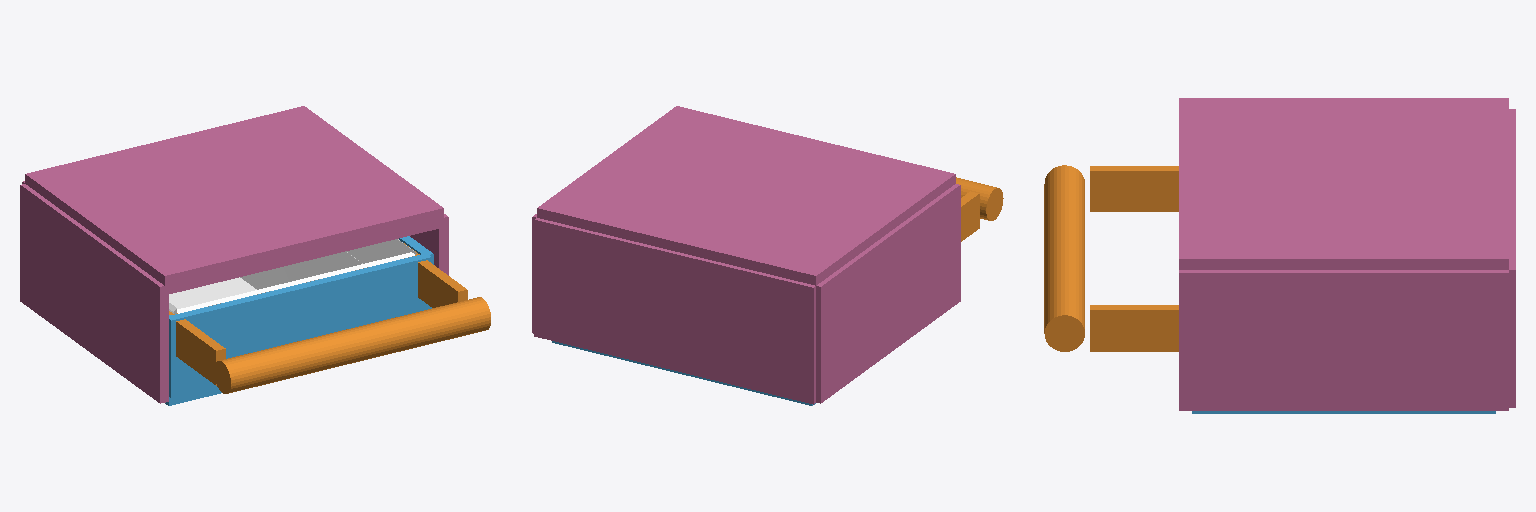
The robot description file, URDF, robot "bowl.urdf":
<?xml version="0.0" ?>
<robot name="bowl.urdf">

  <material name="yellow">
    <color rgba="1 1 0.4 1"/>
  </material>
  <material name="red">
    <color rgba="1 0 0 1"/>
  </material>
  <material name="blue">
    <color rgba=".17 .20 .38 1"/>
  </material>
  <material name="teal">
    <color rgba="0 .5 .5 1"/>
  </material>
  <material name="orange">
    <color rgba=".93 .6 .23 1"/>
  </material>

  <link name="world"/>

  <link name="base">
    <contact>
      <rolling_friction value="10.0"/>
      <lateral_friction value="10.0"/>
      <spinning_friction value="10.0"/>
    </contact>
    <inertial>
      <origin rpy="0 0 0" xyz="0.0 0.0 0.0"/>
       <mass value="0.1"/>
       <inertia ixx="1" ixy="0" ixz="0" iyy="1" iyz="0" izz="1"/>
    </inertial>
    <visual>
      <origin rpy="0 0 0" xyz="0 0 -0.2"/>
      <geometry>
        <box size="1.4 1.2 .1"/>
      </geometry>
    </visual>
    <visual>
      <!-- right -->
      <origin rpy="0 0 0" xyz="0 -.6 0"/>
      <geometry>
        <box size="1.4 .05 0.4"/>
      </geometry>
    </visual>
    <visual>
      <!-- left -->
      <origin rpy="0 0 0" xyz="0 .6 0"/>
      <geometry>
        <box size="1.4 .05 0.4"/>
      </geometry>
    </visual>
    <visual>
      <!-- front -->
      <origin rpy="0 0 0" xyz=".7 0 0"/>
      <geometry>
        <box size=".05 1.2 0.4"/>
      </geometry>
    </visual>
    <visual>
      <!-- back -->
      <origin rpy="0 0 0" xyz="-.7 0 0"/>
      <geometry>
        <box size=".05 1.2 0.4"/>
      </geometry>
    </visual>

    <collision>
      <!--Bottom --> 
      <origin rpy="0 0 0" xyz="0 0 -.2"/>
      <geometry>
        <box size="1.4 1.2 .1"/>
      </geometry>
    </collision>
    <collision>
      <!-- right -->
      <origin rpy="0 0 0" xyz="0 -.6 0"/>
      <geometry>
        <box size="1.4 .05 0.4"/>
      </geometry>
    </collision>
    <collision>
      <!-- left -->
      <origin rpy="0 0 0" xyz="0 .6 0"/>
      <geometry>
        <box size="1.4 .05 0.4"/>
      </geometry>
    </collision>
    <collision>
      <!-- front -->
      <origin rpy="0 0 0" xyz=".7 0 0"/>
      <geometry>
        <box size=".05 1.2 0.4"/>
      </geometry>
    </collision>
    <collision>
      <!-- back -->
      <origin rpy="0 0 0" xyz="-.7 0 0"/>
      <geometry>
        <box size=".05 1.2 0.4"/>
      </geometry>
    </collision>
  </link>

  <link name="tray">
    <contact>
      <lateral_friction value="10.0"/>
      <rolling_friction value="10.0"/>
      <spinning_friction value="10.0"/>
      <contact_cfm value="0.0"/>
      <contact_erp value="1.0"/>
    </contact>
    <inertial>
      <origin rpy="0 0 -3.14" xyz="0 0 -0.15"/>
      <mass value="0"/>
      <inertia ixx="0" ixy="0" ixz="0" iyy="0" iyz="0" izz="0"/>
    </inertial>
    <visual>
      <origin rpy="0 0 -3.14" xyz="0 0 -0.15"/>
      <geometry>
        <mesh filename="../tray/tray_textured4_no_color.obj" scale="1.1 0.9 1.4"/>
      </geometry>
      <material name="tray_material">
        <color rgba="1 1 1 1"/>
      </material>
    </visual>
    <collision>
      <origin rpy="0 0 -3.14" xyz="0 0 -0.15"/>
      <geometry>
        <mesh filename="../tray/tray_textured4_no_color.obj" scale="1.1 0.9 1.4"/>
      </geometry>
    </collision>
  </link>

  <link name="handle_r">
    <contact>
      <rolling_friction value="1000.0"/>
      <lateral_friction value="1000.0"/>
      <!-- lateral_friction was key to not making the gripper slide on the handle--> 
      <spinning_friction value="1000.0"/>
      <contact_cfm value="0.0"/>
      <contact_erp value="1.0"/>
    </contact>
    <inertial>
      <origin rpy="0 1.57 0" xyz="0 0 0"/>
      <mass value=".1"/>
      <inertia ixx="1" ixy="0" ixz="0" iyy="1" iyz="0" izz="1"/>
    </inertial>
    <visual>
      <origin rpy="0 1.57 0" xyz="0 0 0"/>
      <geometry>
        <cylinder radius="0.08" length="1.4"/>
      </geometry>
      <material name="orange"/>
    </visual>
    <collision>
      <origin rpy="0 1.57 0" xyz="0 0 0"/>
      <geometry>
        <cylinder radius="0.08" length="1.4"/>
      </geometry>
    </collision>
  </link>

  <link name="handle_plate_far">
    <contact>
      <rolling_friction value="1000.0"/>
      <lateral_friction value="1000.0"/>
      <spinning_friction value="1000.0"/>
      <contact_cfm value="0.0"/>
      <contact_erp value="1.0"/>
    </contact>
    <inertial>
      <origin rpy="0 1.57 0" xyz="0 0 0"/>
      <mass value=".1"/>
      <inertia ixx="1" ixy="0" ixz="0" iyy="1" iyz="0" izz="1"/>
    </inertial>
    <visual>
      <origin rpy="0 0 0" xyz="0 0 0"/>
      <geometry>
        <box size=".05 .6 .18"/>
      </geometry>
      <material name="orange"/>
    </visual>
    <collision>
      <origin rpy="0 0 0" xyz="0 0 0"/>
      <geometry>
        <box size=".05 .6 .18"/>
      </geometry>
    </collision>
  </link>

  <link name="handle_plate_near">
    <contact>
      <rolling_friction value="1000.0"/>
      <lateral_friction value="1000.0"/>
      <spinning_friction value="1000.0"/>
      <contact_cfm value="0.0"/>
      <contact_erp value="1.0"/>
    </contact>
    <inertial>
      <origin rpy="0 1.57 0" xyz="0 0 0"/>
      <mass value=".1"/>
      <inertia ixx="1" ixy="0" ixz="0" iyy="1" iyz="0" izz="1"/>
    </inertial>
    <visual>
      <origin rpy="0 0 0" xyz="0 0 0"/>
      <geometry>
        <box size=".05 .6 .18"/>
      </geometry>
      <material name="orange"/>
    </visual>
    <collision>
      <origin rpy="0 0 0" xyz="0 0 0"/>
      <geometry>
        <box size=".05 .6 .18"/>
      </geometry>
    </collision>
  </link>

  <link name="frame">
    <contact>
      <lateral_friction value="0.5"/>
      <rolling_friction value="0.0"/>
      <contact_cfm value="0.0"/>
      <contact_erp value="1.0"/>
    </contact>
    <inertial>
      <origin rpy="0 0 0" xyz="0.0 0.0 0.0"/>
       <mass value=".1"/>
       <inertia ixx="1" ixy="0" ixz="0" iyy="1" iyz="0" izz="1"/>
    </inertial>
    <visual>
      <!--Top-->
      <origin rpy="0 0 0" xyz="0 0 .3"/>
      <geometry>
        <box size="1.5 1.3 .1"/>
      </geometry>
    </visual>
    <visual>
      <!--Right-->
      <origin rpy="0 0 0" xyz="0 .65 0"/>
      <geometry>
        <box size="1.5 .05 .6"/>
      </geometry>
    </visual>
    <visual>
      <!--Front-->
      <origin rpy="0 0 0" xyz=".75 0 0"/>
      <geometry>
        <box size=".05 1.3 .6"/>
      </geometry>
    </visual>
    <visual>
      <!--Back-->
      <origin rpy="0 0 0" xyz="-.75 0 0"/>
      <geometry>
        <box size=".05 1.3 .6"/>
      </geometry>
    </visual>

    <collision>
      <!--Top-->
      <origin rpy="0 0 0" xyz="0 0 .3"/>
      <geometry>
        <box size="1.5 1.3 .1"/>
      </geometry>
    </collision>
    <collision>
      <!--Right-->
      <origin rpy="0 0 0" xyz="0 .65 0"/>
      <geometry>
        <box size="1.5 .05 .6"/>
      </geometry>
    </collision>
    <collision>
      <!--Front-->
      <origin rpy="0 0 0" xyz=".75 0 0"/>
      <geometry>
        <box size=".05 1.3 .6"/>
      </geometry>
    </collision>
    <collision>
      <!--Back-->
      <origin rpy="0 0 0" xyz="-.75 0 0"/>
      <geometry>
        <box size=".05 1.3 .6"/>
      </geometry>
    </collision>
  </link>

  <joint name="frame_joint" type="fixed">
    <parent link="world"/>
    <child link="frame"/>
  </joint>

  <joint name="base_frame_joint" type="prismatic">
    <origin rpy="0 0 0" xyz="0 0 -.1"/>
    <parent link="frame"/>
    <child link="base"/>
    <axis rpy="0 0 0" xyz="0 1 0"/>
    <limit effort="100" lower="-1.25" upper="0" velocity="100"/>
    <dynamics damping="0.0" friction=".01"/>
  </joint>

  <joint name="base_tray_joint" type="fixed">
    <origin rpy="0 0 0" xyz="0 0 0"/>
    <parent link="base"/>
    <child link="tray"/>
  </joint>

  <joint name="handle_plate_far_joint" type="fixed">
    <origin rpy="0 0 0" xyz="-0.65 -0.7 0.1"/>
    <parent link="base"/>
    <child link="handle_plate_far"/>
  </joint>

  <joint name="handle_plate_near_joint" type="fixed">
    <origin rpy="0 0 0" xyz="0.65 -0.7 0.1"/>
    <parent link="base"/>
    <child link="handle_plate_near"/>
  </joint>

  <joint name="handle_r_joint" type="fixed">
    <origin rpy="0 0 0" xyz="0 -1.1 0.1"/>
    <parent link="base"/>
    <child link="handle_r"/>
  </joint>

</robot>

--- Facts derived from the render (not from the file) ---
Views: 3 orthographic renders of the robot side by side, from view 1: azimuth 30°, elevation 25°; view 2: azimuth 150°, elevation 25°; view 3: azimuth 270°, elevation 25°.
Model bowl.urdf with 7 links and 6 joints (1 prismatic, 5 fixed), rooted at world, posed all joints at 0.
Visible links, largest first — view 1: frame, base, handle_r, tray, handle_plate_far, handle_plate_near; view 2: frame, handle_r, handle_plate_far; view 3: frame, handle_r, handle_plate_near, handle_plate_far, base.
Link boxes in pixels (x1,y1,x2,y2): frame: [20, 106, 448, 403]; base: [165, 236, 433, 405]; handle_r: [214, 297, 490, 393]; tray: [169, 239, 416, 313]; handle_plate_far: [169, 311, 225, 385]; handle_plate_near: [404, 243, 467, 307]; frame: [532, 106, 960, 404]; handle_r: [956, 177, 1003, 220]; handle_plate_far: [961, 191, 979, 241]; frame: [1179, 98, 1515, 410]; handle_r: [1044, 165, 1084, 351]; handle_plate_near: [1090, 305, 1178, 351]; handle_plate_far: [1090, 166, 1178, 211]; base: [1192, 411, 1495, 413].
Size in the robot's own frame: 1.55 by 1.85 by 0.7 metres.
1 mesh visuals loaded from 1 distinct referenced files (1 OBJ).